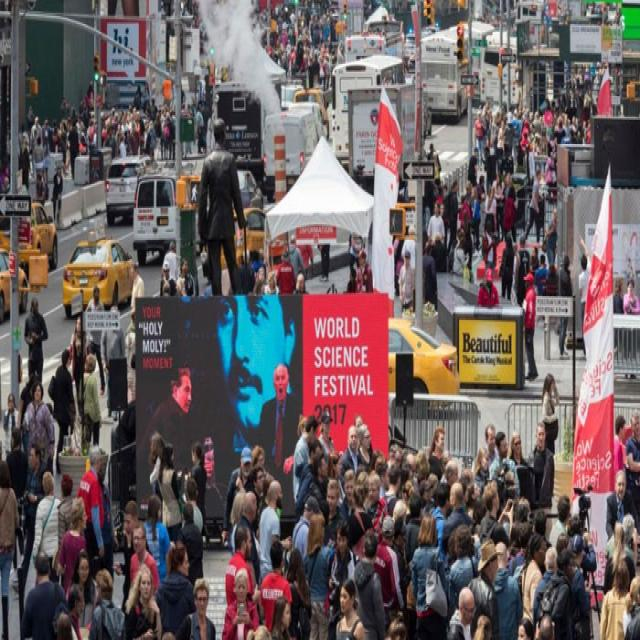body: (300, 414, 569, 558), (139, 293, 302, 515), (423, 53, 628, 227), (105, 88, 247, 293), (184, 0, 415, 90), (0, 64, 107, 197), (480, 0, 625, 53), (386, 612, 639, 638), (112, 498, 152, 638), (410, 512, 450, 640), (608, 226, 639, 380), (224, 520, 263, 640), (19, 550, 69, 640), (74, 443, 107, 570), (352, 529, 388, 640), (153, 539, 195, 634), (466, 536, 505, 638), (257, 478, 293, 588), (220, 443, 255, 555), (31, 469, 63, 587), (47, 347, 76, 475), (535, 549, 576, 638), (0, 458, 20, 638), (304, 510, 331, 640), (156, 442, 188, 547), (120, 563, 163, 640), (372, 514, 405, 614), (491, 541, 524, 640), (260, 539, 294, 634), (97, 446, 120, 586), (20, 442, 47, 558), (171, 574, 218, 638), (328, 517, 358, 614), (221, 568, 261, 640), (143, 493, 172, 592), (84, 283, 109, 397), (100, 304, 125, 418), (90, 568, 129, 640), (66, 548, 100, 630), (24, 381, 56, 467), (599, 558, 632, 640), (527, 421, 556, 514), (603, 520, 637, 598), (174, 499, 204, 586), (605, 469, 640, 542), (521, 531, 547, 629), (293, 412, 320, 506), (129, 518, 160, 598), (292, 496, 321, 581), (68, 312, 90, 421), (488, 428, 521, 498), (79, 352, 103, 448), (23, 294, 49, 382), (448, 522, 480, 592), (532, 546, 559, 628), (521, 270, 540, 384), (243, 596, 292, 638), (568, 531, 589, 627), (567, 512, 598, 573), (443, 584, 478, 638), (624, 410, 639, 536), (622, 277, 640, 381), (335, 577, 364, 640), (577, 232, 591, 358), (540, 206, 562, 286), (5, 426, 29, 499), (346, 206, 365, 298), (540, 371, 560, 458), (524, 166, 545, 246), (558, 252, 573, 362), (189, 440, 208, 525), (57, 472, 76, 555), (180, 477, 204, 538), (146, 429, 166, 502), (247, 244, 289, 278), (512, 232, 530, 310), (497, 230, 516, 302), (2, 390, 21, 461), (129, 261, 146, 339), (284, 232, 306, 291), (446, 178, 462, 259), (548, 493, 572, 547), (421, 238, 438, 310), (124, 307, 136, 405), (399, 248, 416, 315), (476, 268, 501, 310), (481, 218, 501, 270), (469, 185, 483, 258), (315, 216, 330, 282), (50, 162, 64, 230), (506, 430, 530, 469), (426, 200, 445, 246), (427, 142, 442, 197), (161, 238, 178, 285), (483, 184, 498, 237), (533, 252, 550, 298), (400, 224, 416, 272), (159, 259, 178, 298), (613, 414, 626, 470), (52, 608, 75, 638), (358, 248, 373, 293), (485, 422, 499, 469), (297, 243, 315, 274), (263, 270, 281, 294), (252, 266, 267, 294), (293, 270, 310, 294), (473, 146, 480, 171), (159, 630, 177, 638), (180, 258, 190, 272)
